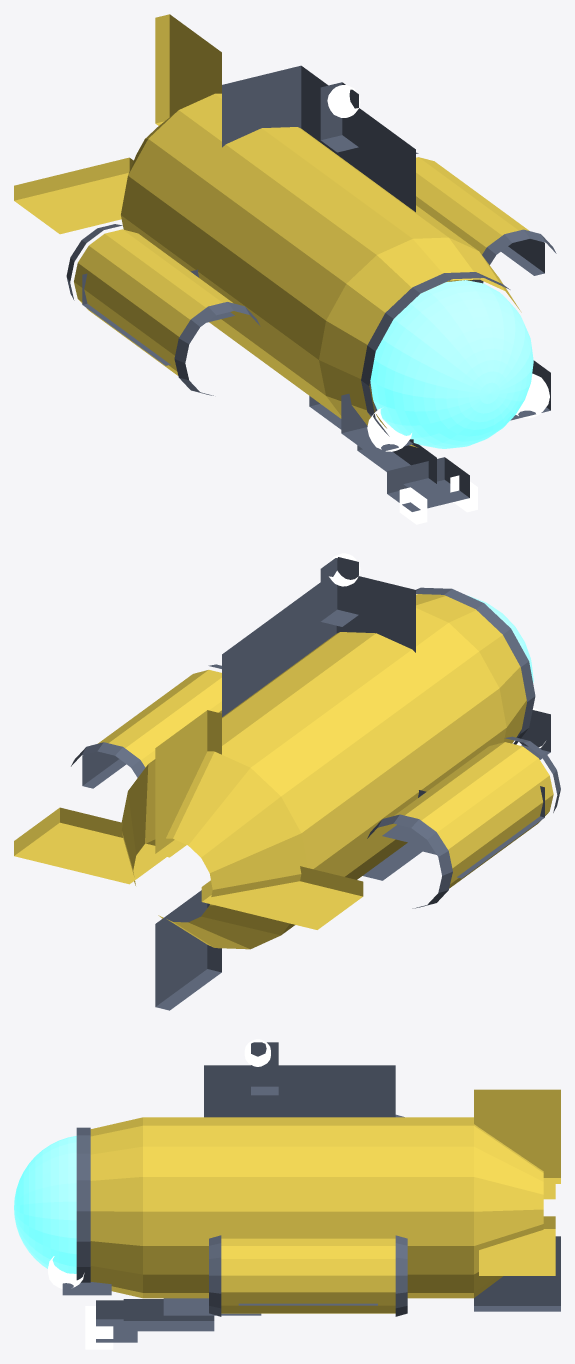
Rendered from deepRecoverySub.d579451f.glb.
3 renders of one model, top to bottom at view 1: azimuth 30°, elevation 25°; view 2: azimuth 150°, elevation 25°; view 3: azimuth 270°, elevation 25°, orthographic. The views are drawn at different scales.
Parts seen in each view (by area): view 1: hull, dark, glass, lights; view 2: hull, dark; view 3: hull, dark, glass, lights.
Part boxes in pixels (x1,y1,x2,y2): hull: (14,14,529,447); dark: (66,65,556,511); glass: (370,280,533,448); lights: (327,85,549,524); hull: (14,594,553,949); dark: (71,557,560,1010); hull: (90,1089,560,1313); dark: (62,1042,560,1342); glass: (14,1136,76,1273); lights: (48,1039,270,1349).
Bounding box in the file's own units: 2.12 × 1.88 × 3.14.
